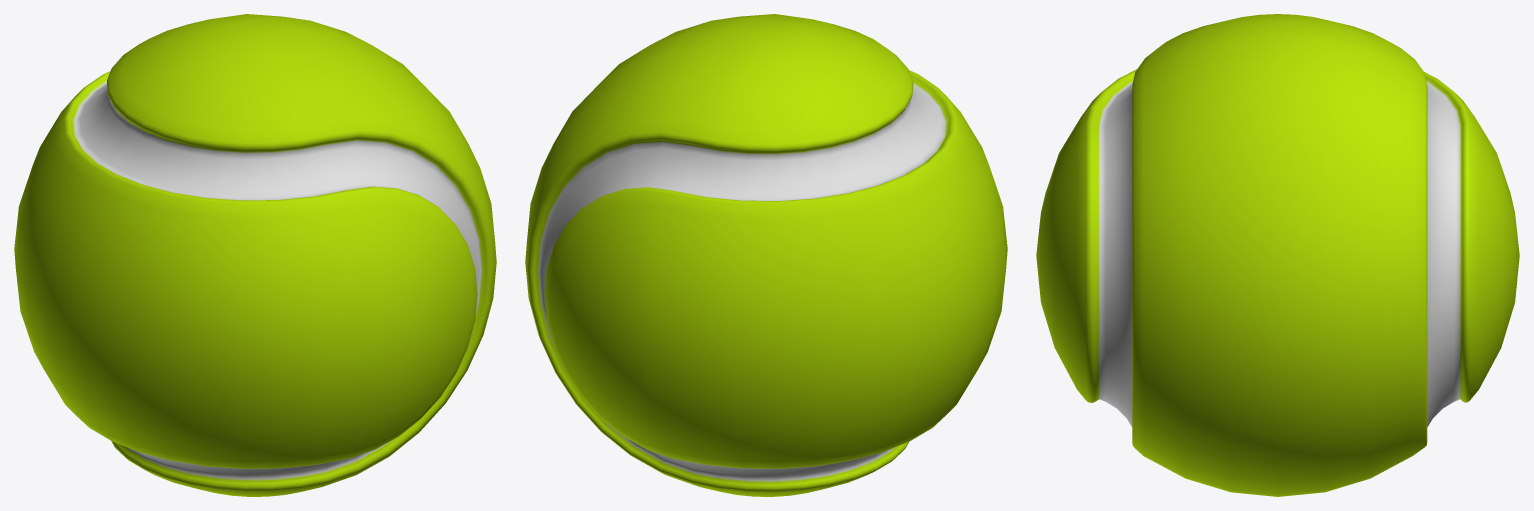
The model's file is TennisBall.fbx.
The picture shows the model from 3 angles, left to right: view 1: azimuth 30°, elevation 25°; view 2: azimuth 150°, elevation 25°; view 3: azimuth 270°, elevation 25°; orthographic projection.
Visible parts, largest first — view 1: Sphere.001; view 2: Sphere.001; view 3: Sphere.001.
Boxes of the visible parts, bbox=[...] form: Sphere.001: bbox=[14, 14, 496, 496]; Sphere.001: bbox=[525, 14, 1007, 496]; Sphere.001: bbox=[1036, 14, 1519, 496].
Bounding box in the file's own units: 200 × 200 × 200.
